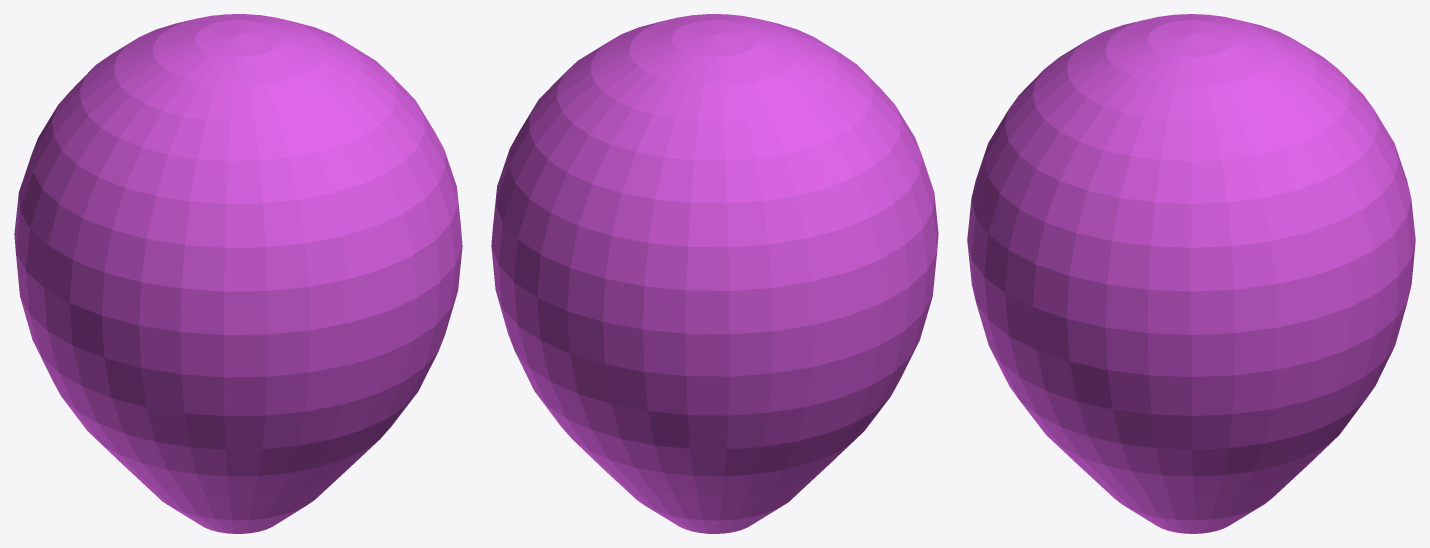
Rendered from zahlen-gold-nr1-gruppe.glb.
3 views of the same model, side by side, from view 1: azimuth 30°, elevation 25°; view 2: azimuth 150°, elevation 25°; view 3: azimuth 270°, elevation 25° (orthographic).
Parts seen in each view (by area): view 1: Sphere; view 2: Sphere; view 3: Sphere.
Boxes of the visible parts, left/top/right/bottom form: Sphere: left=14, top=14, right=462, bottom=533; Sphere: left=491, top=14, right=938, bottom=533; Sphere: left=967, top=14, right=1415, bottom=533.
Bounding box in the file's own units: 2 × 2.43 × 2.
